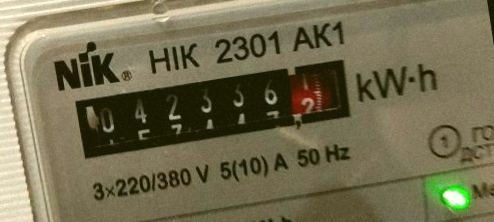0: (96, 104, 116, 134)
1: (296, 69, 311, 92)
2: (162, 90, 183, 121), (297, 94, 316, 114)
3: (225, 78, 246, 110), (194, 85, 213, 115)
4: (129, 94, 150, 125)
6: (259, 74, 280, 107)
screen: (61, 45, 365, 169)
